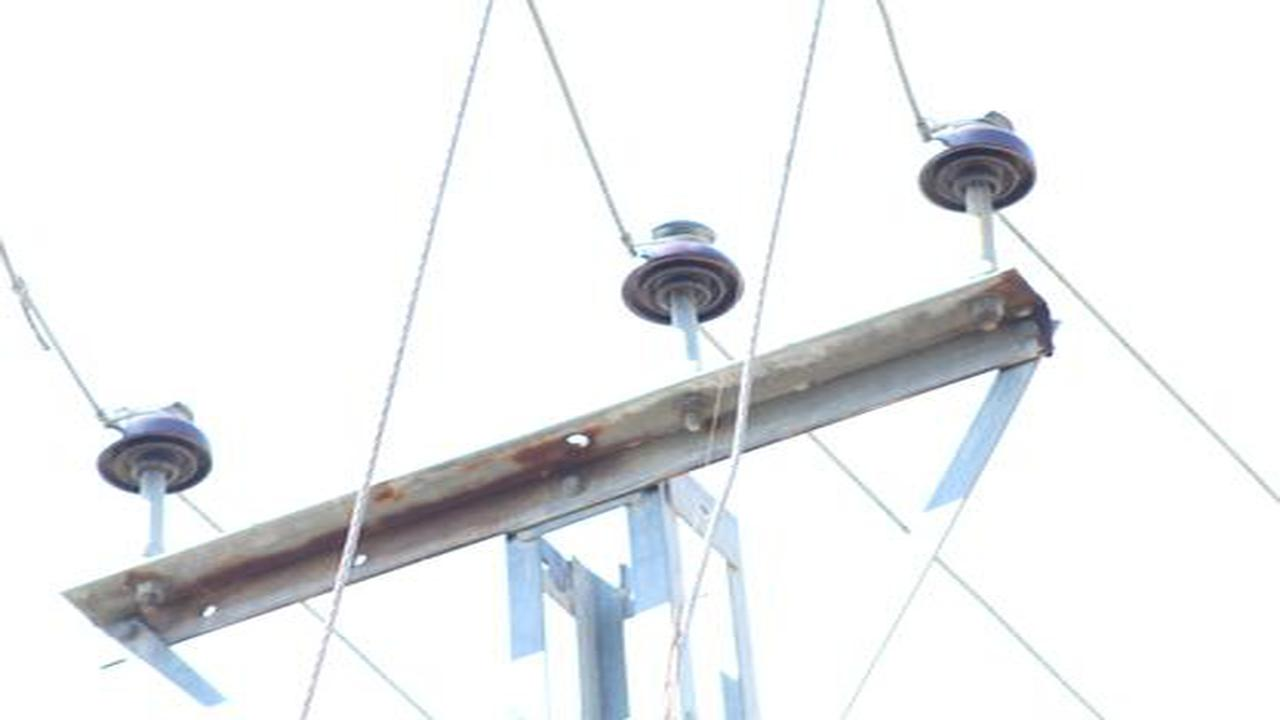insulator_pin: (612, 217, 749, 327), (914, 103, 1043, 215), (92, 395, 214, 496)
